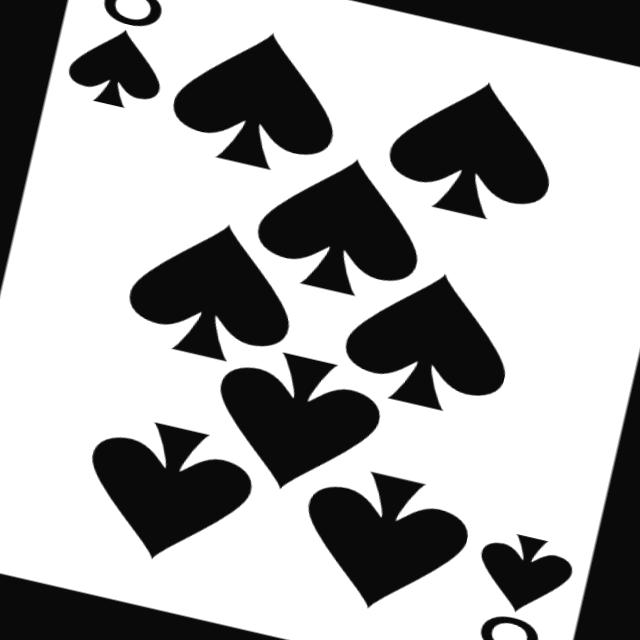Spade: (246, 139, 437, 309), (71, 409, 262, 577), (162, 14, 352, 182), (288, 458, 478, 626), (379, 64, 568, 232), (336, 256, 526, 423), (200, 339, 390, 506), (120, 205, 306, 374), (62, 19, 172, 116), (469, 526, 578, 622)
